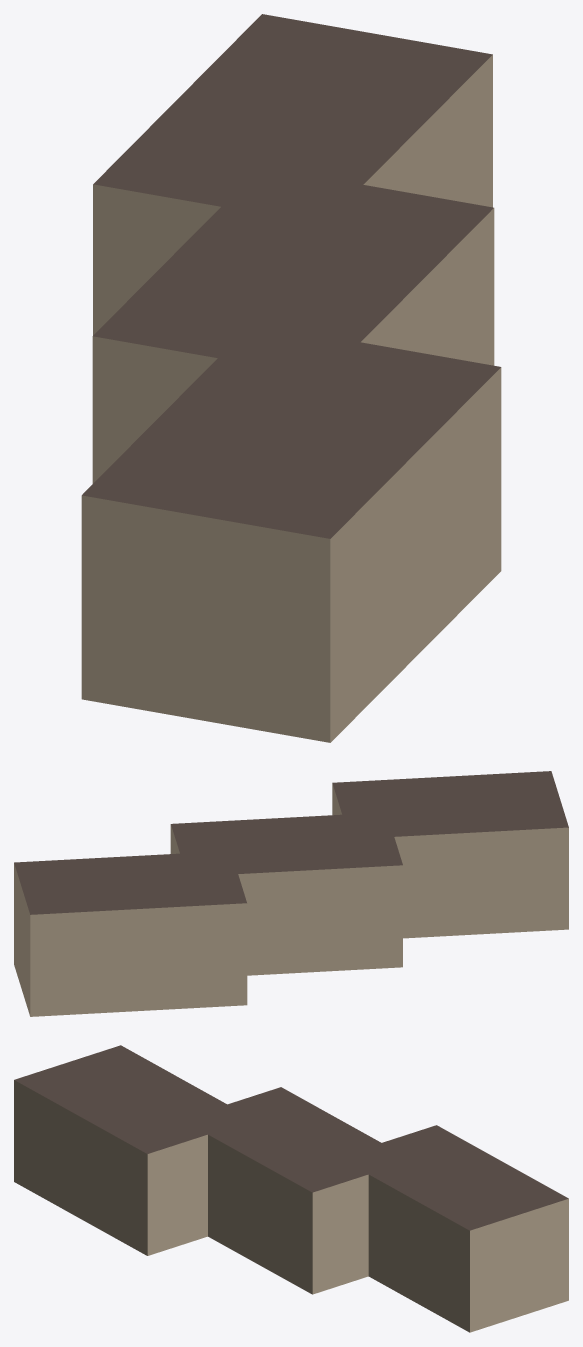
The picture shows the model from 3 angles, top to bottom: view 1: azimuth 30°, elevation 25°; view 2: azimuth 150°, elevation 25°; view 3: azimuth 270°, elevation 25°; orthographic projection. The views are drawn at different scales.
Visible parts, largest first — view 1: HP-w859488844; view 2: HP-w859488844; view 3: HP-w859488844.
Part boxes in pixels (x1,y1,x2,y2): HP-w859488844: (81, 14, 501, 742); HP-w859488844: (14, 771, 568, 1016); HP-w859488844: (14, 1045, 568, 1332).
Size of the model in its own units: 35.1 by 9 by 44.38.
